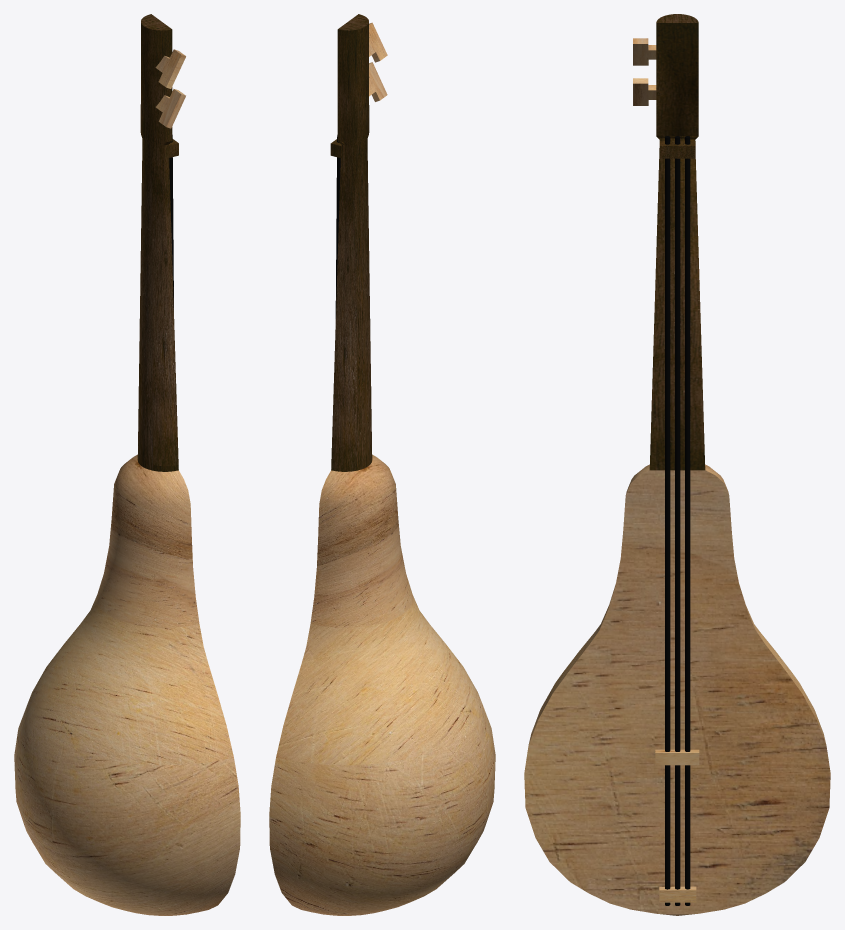
File: kopuz..fbx
The picture shows the model from 3 angles, left to right: view 1: azimuth 30°, elevation 25°; view 2: azimuth 150°, elevation 25°; view 3: azimuth 270°, elevation 25°; orthographic projection.
Parts seen in each view (by area): view 1: Kopuz.Sap.001; view 2: Kopuz.Sap.001; view 3: Kopuz.Sap.001.
Boxes of the visible parts, x1,y1,x2,y2 form: Kopuz.Sap.001: (14, 14, 240, 915); Kopuz.Sap.001: (269, 14, 495, 915); Kopuz.Sap.001: (524, 14, 830, 915).
Bounding box in the file's own units: 0.1974 × 1.2 × 0.374.
